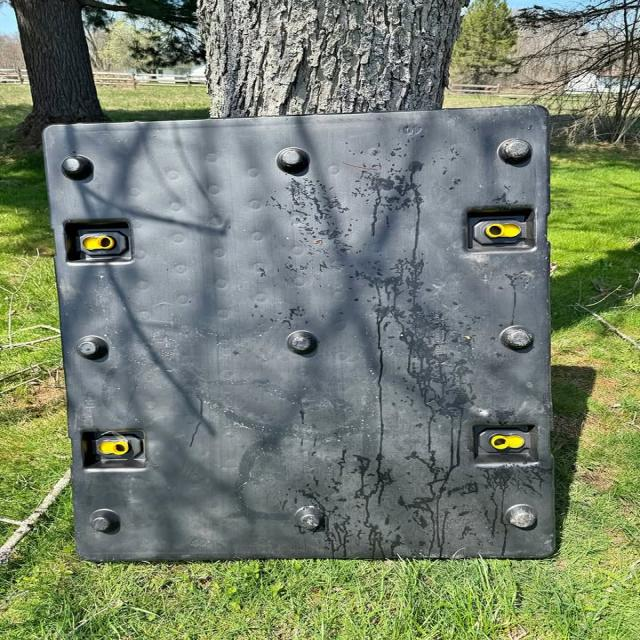non-igps: (34, 98, 564, 568)
